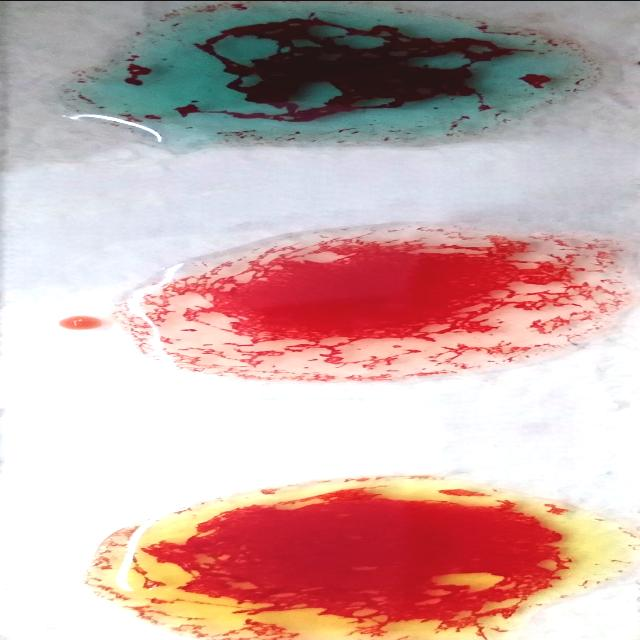A: (76, 11, 604, 139)
B: (74, 478, 624, 640)
D: (101, 220, 638, 376)
